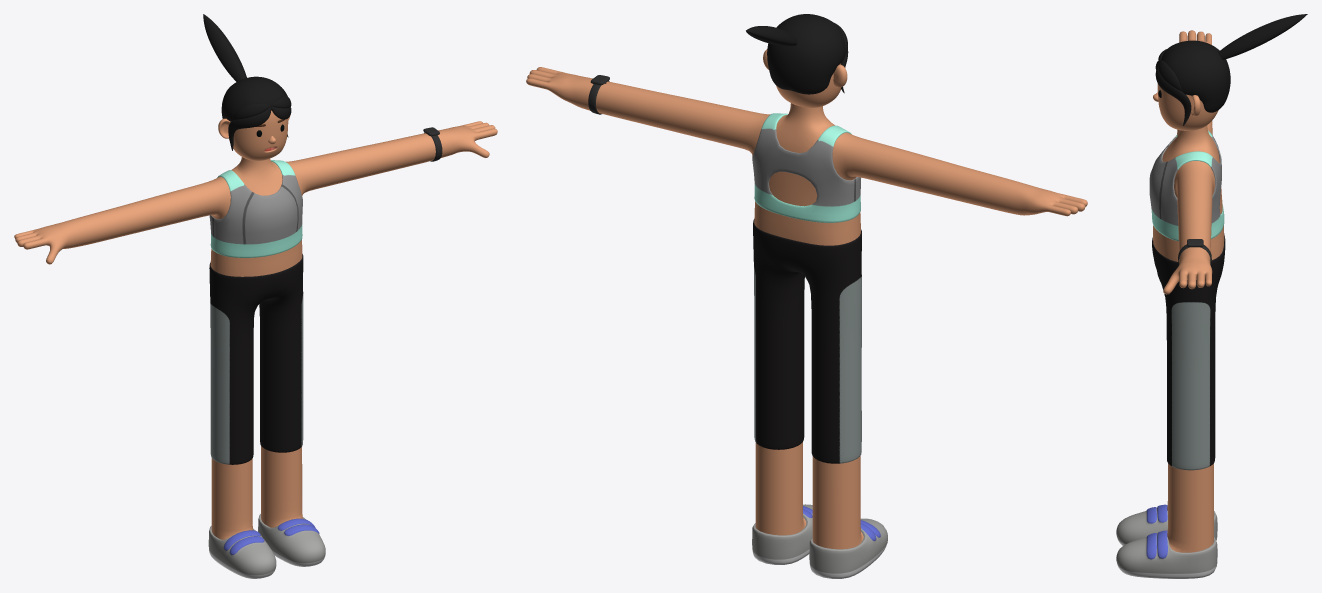
File: GIRL 4.fbx
The picture shows the model from 3 angles, left to right: view 1: azimuth 30°, elevation 25°; view 2: azimuth 150°, elevation 25°; view 3: azimuth 270°, elevation 25°; orthographic projection. The views are drawn at different scales.
Visible parts, largest first — view 1: GIRL_BODY (NO SKIRT).002, GIRL 4_PANTS, GIRL 4_SHIRT, GIRL_4_SHOES.R, GIRL 4_HAIR, GIRL_4_SHOES.L, GIRL 4_HAIR.001; view 2: GIRL_BODY (NO SKIRT).002, GIRL 4_PANTS, GIRL 4_SHIRT, GIRL 4_HAIR.001, GIRL_4_SHOES.R, GIRL_4_SHOES.L, GIRL 4_HAIR; view 3: GIRL_BODY (NO SKIRT).002, GIRL 4_PANTS, GIRL_4_SHOES.L, GIRL 4_SHIRT, GIRL 4_HAIR.001, GIRL 4_HAIR, GIRL_4_SHOES.R, GIRL 4_WATCH.
Boxes of the visible parts, <box> form: GIRL_BODY (NO SKIRT).002: <box>14,110,497,539</box>; GIRL 4_PANTS: <box>209,254,303,464</box>; GIRL 4_SHIRT: <box>209,160,302,257</box>; GIRL_4_SHOES.R: <box>208,526,276,578</box>; GIRL 4_HAIR: <box>203,14,291,150</box>; GIRL_4_SHOES.L: <box>258,514,325,566</box>; GIRL 4_HAIR.001: <box>221,76,287,121</box>; GIRL_BODY (NO SKIRT).002: <box>526,49,1087,549</box>; GIRL 4_PANTS: <box>753,219,861,463</box>; GIRL 4_SHIRT: <box>752,113,860,222</box>; GIRL 4_HAIR.001: <box>767,14,845,94</box>; GIRL_4_SHOES.R: <box>809,518,887,578</box>; GIRL_4_SHOES.L: <box>752,504,812,564</box>; GIRL 4_HAIR: <box>746,23,848,93</box>; GIRL_BODY (NO SKIRT).002: <box>1153,30,1224,552</box>; GIRL 4_PANTS: <box>1152,235,1225,470</box>; GIRL_4_SHOES.L: <box>1116,530,1217,578</box>; GIRL 4_SHIRT: <box>1149,130,1224,241</box>; GIRL 4_HAIR.001: <box>1161,40,1230,112</box>; GIRL 4_HAIR: <box>1155,14,1307,125</box>; GIRL_4_SHOES.R: <box>1116,504,1217,545</box>; GIRL 4_WATCH: <box>1178,239,1211,264</box>.
Size of the model in its own units: 205 by 204 by 65.05.
Materials: 11 (8 with a texture image).
